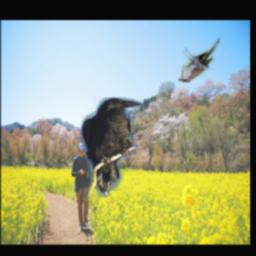Crow: (81, 97, 143, 197)
Cuckoo: (179, 39, 221, 83)
